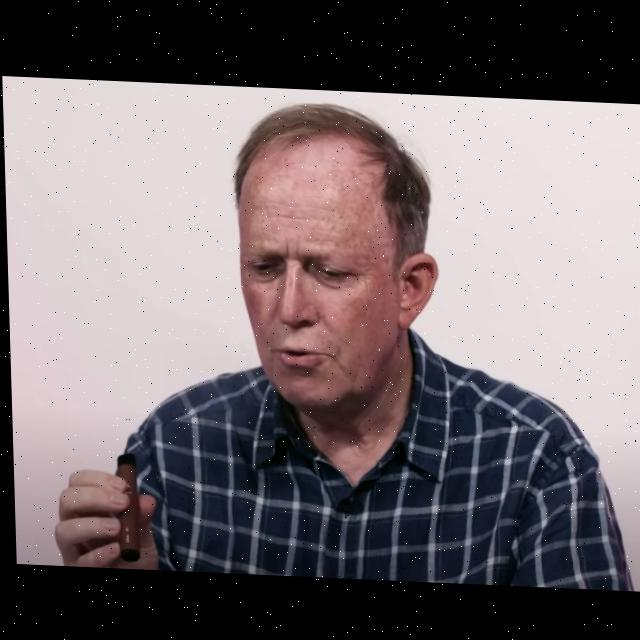vape: (113, 453, 138, 563)
